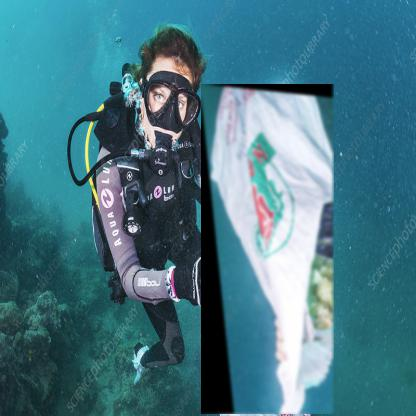waste: (202, 84, 336, 415)
